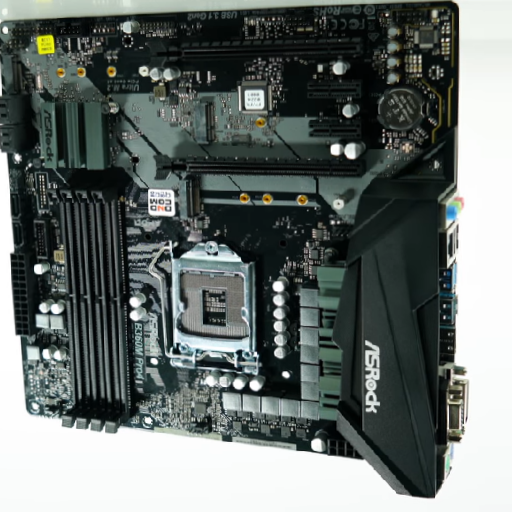CPU: (169, 241, 260, 373)
GPU: (144, 38, 362, 67), (153, 154, 365, 183)
MOTHERBOARD: (1, 5, 459, 463)
RAM: (47, 184, 132, 435)
SSD: (177, 178, 200, 220), (194, 102, 214, 144)
